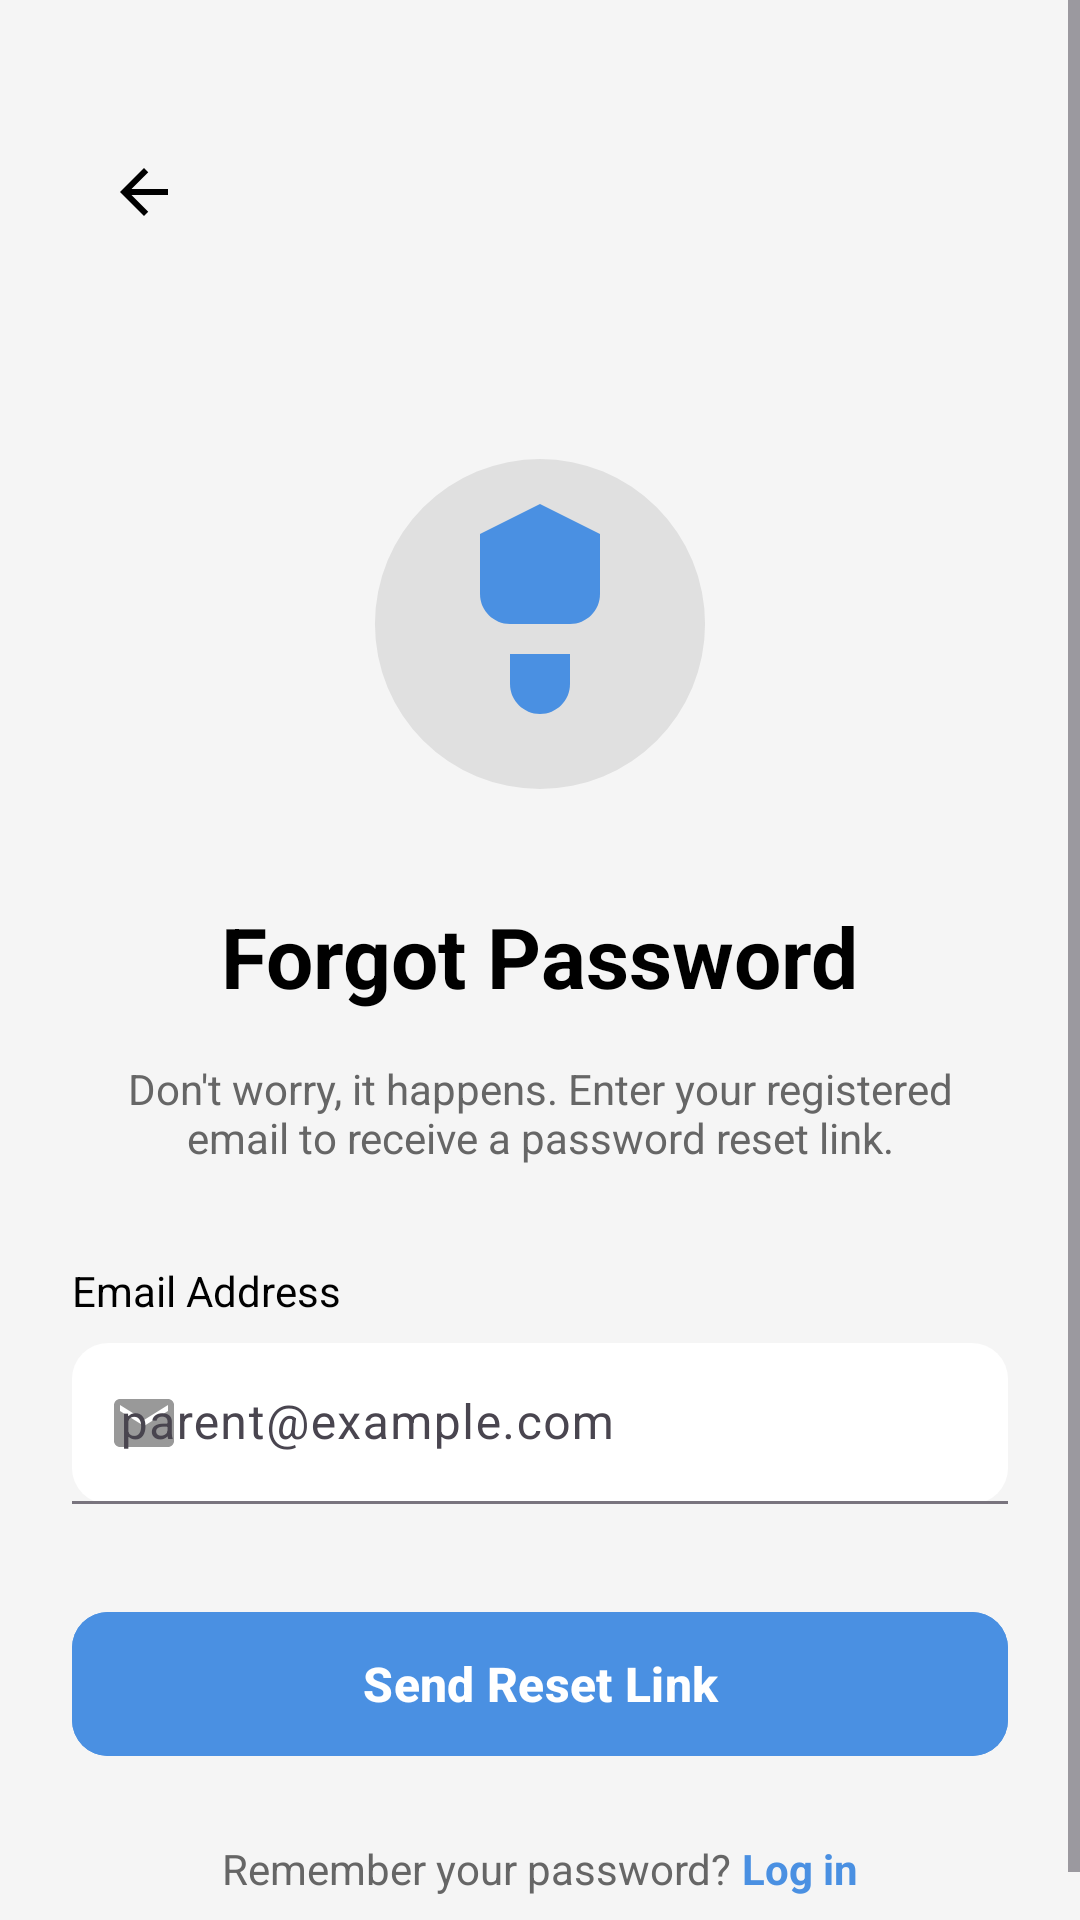

Screen size 1080 × 1920. Icon name, then its box in pixels as [x1,y1,x2,y2]:
Back: [120,168,168,216]
